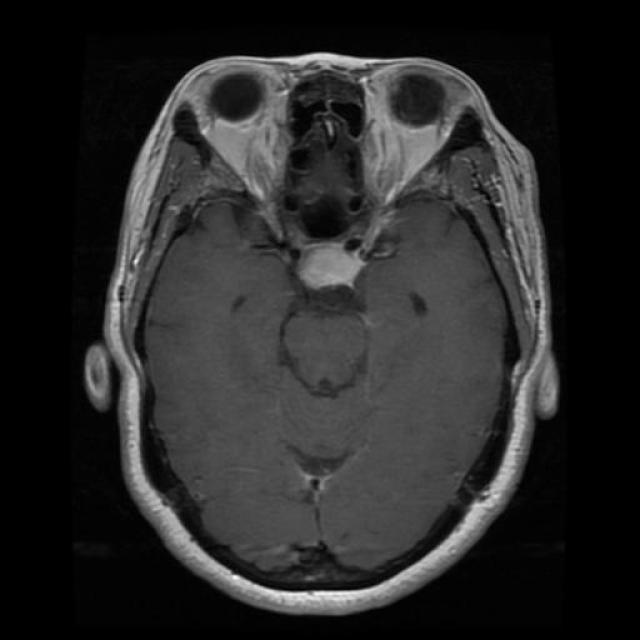pituitary: (261, 212, 380, 338)
